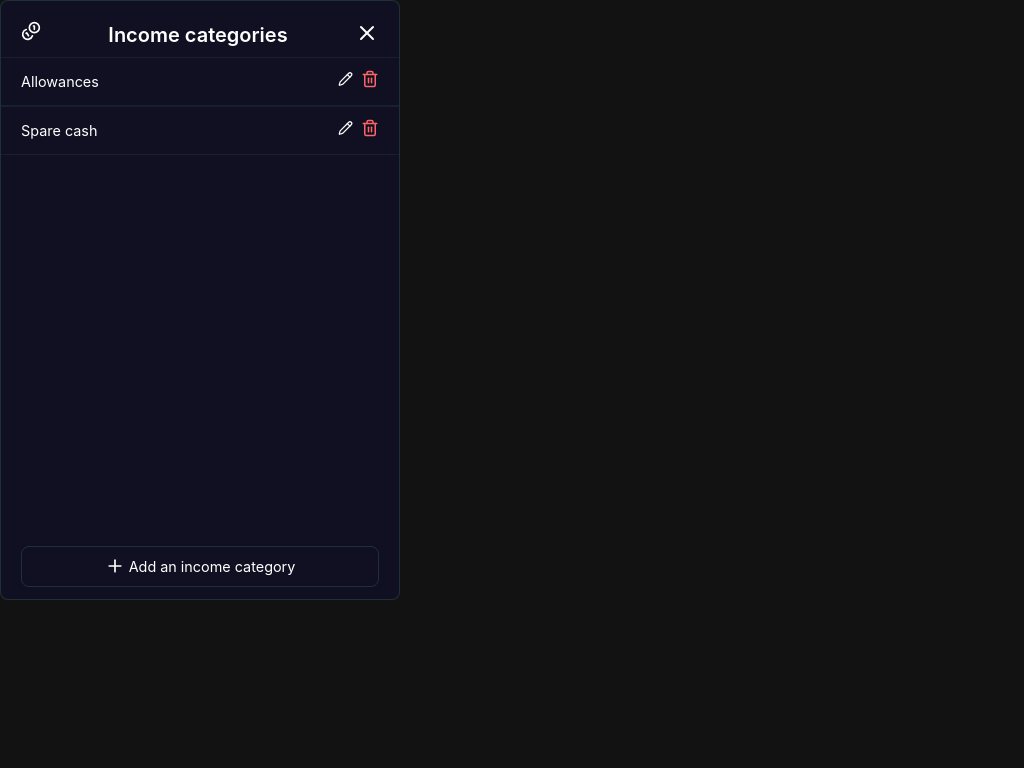
Test: Test if elements in income categories modal works › Test if existing income modification works
This screenshot has width=1024, height=768.
expect the text "Allowances" is shown: met, box [21,70,99,93]
Click the icon named "Rename Allowances": (346,79) [338,70,353,88]
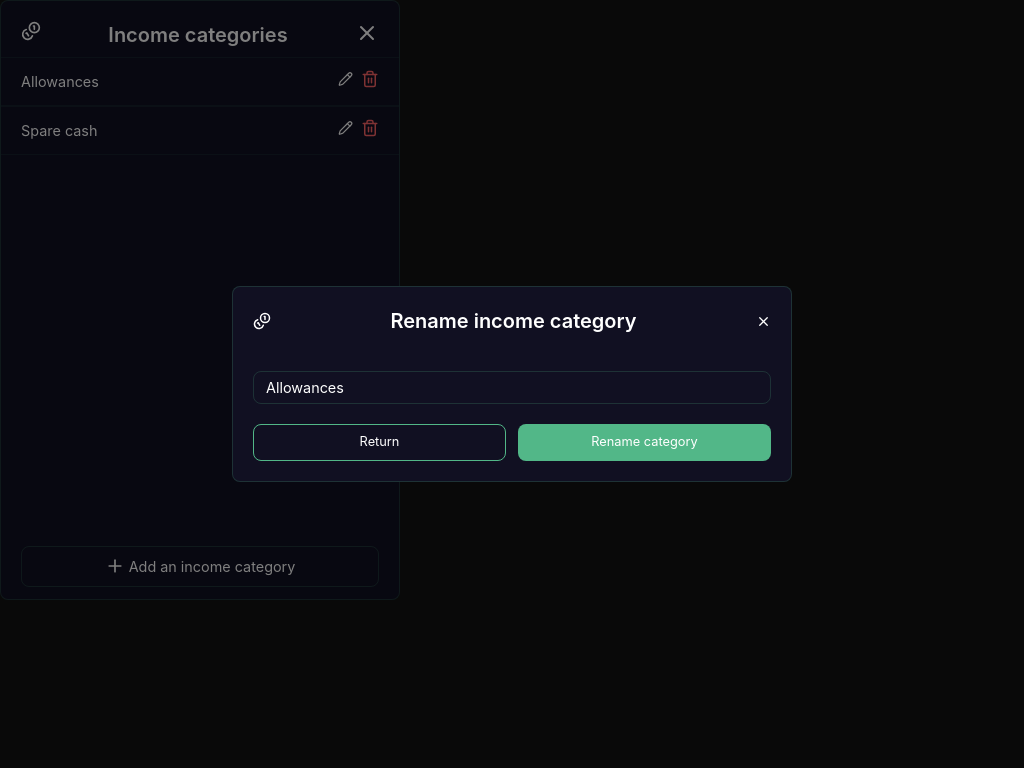
expect the text "Rename income category" is shown: met, box [390,307,636,335]
expect the field with placeholder "eg. Savings" holds "Allowances": met
Replace the text in the field with placeholder "eg. Savings" with "Allowances - sample lang": (512,388) [253,371,771,404]
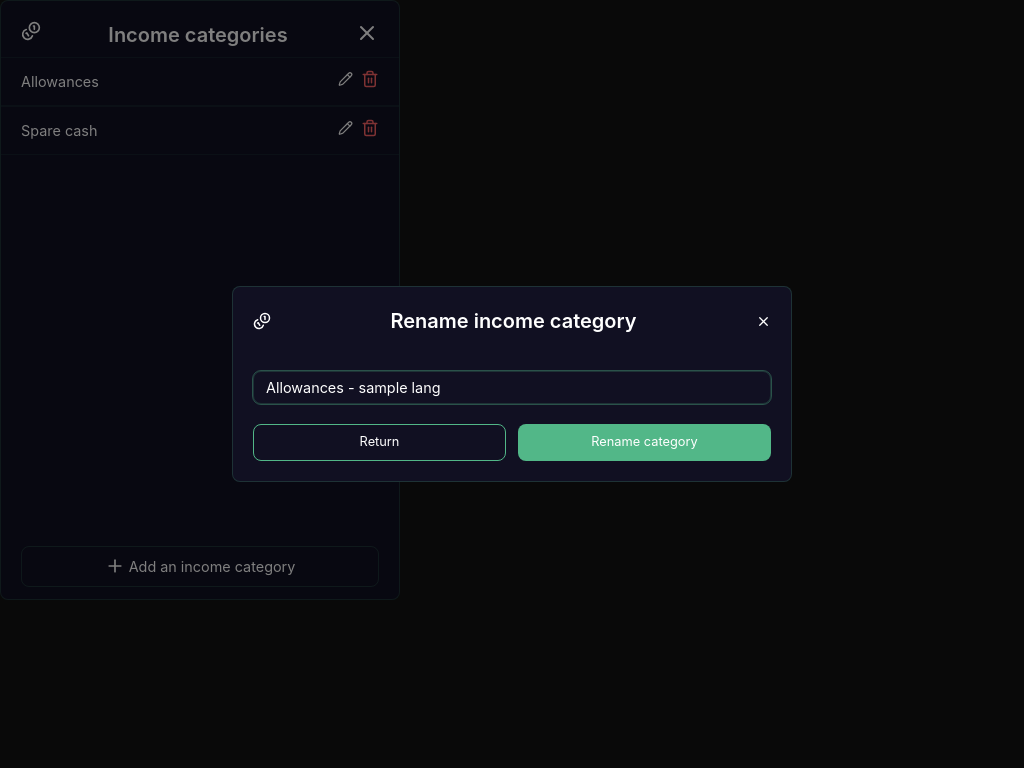
Click the button "Rename category": (644,443) [518,424,771,461]
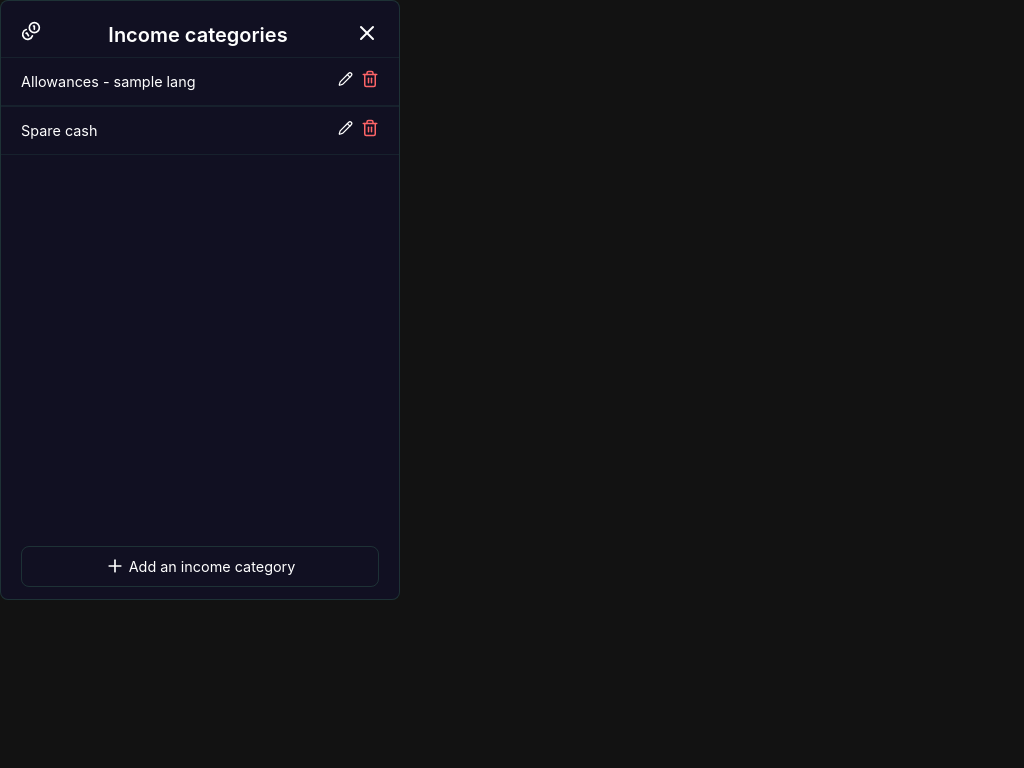
expect the text "Allowances - sample lang" is shown: met, box [21,70,196,93]
